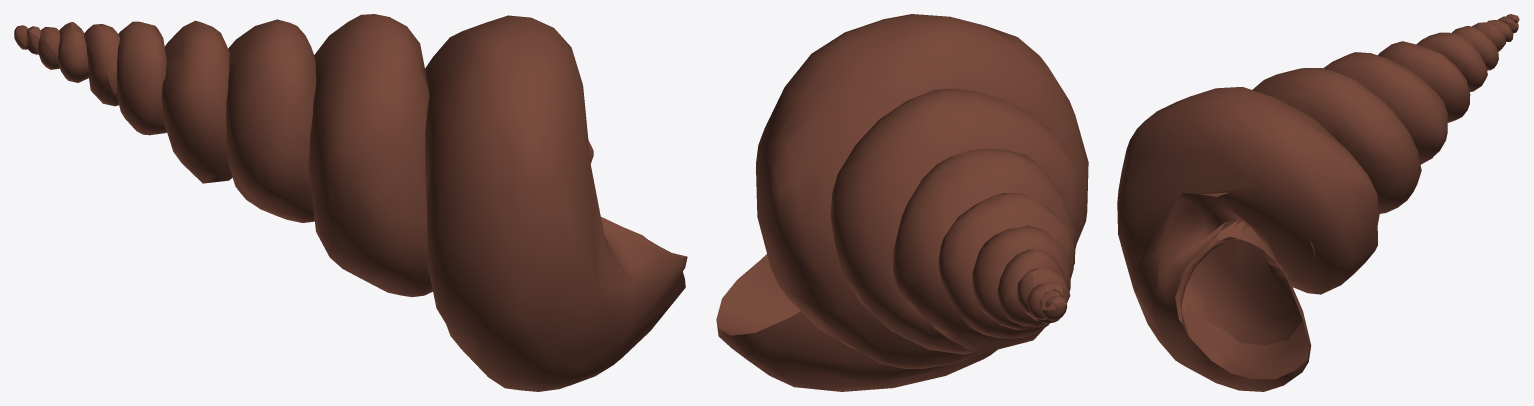
The picture shows the model from 3 angles, left to right: view 1: azimuth 30°, elevation 25°; view 2: azimuth 150°, elevation 25°; view 3: azimuth 270°, elevation 25°; orthographic projection. The views are drawn at different scales.
Parts seen in each view (by area): view 1: shell_tail; view 2: shell_tail; view 3: shell_tail.
Boxes of the visible parts, x1=… form: shell_tail: x1=14, y1=14, x2=687, y2=391; shell_tail: x1=716, y1=14, x2=1088, y2=391; shell_tail: x1=1117, y1=14, x2=1519, y2=391.
Bounding box in the file's own units: 125 × 117 × 85.54.
